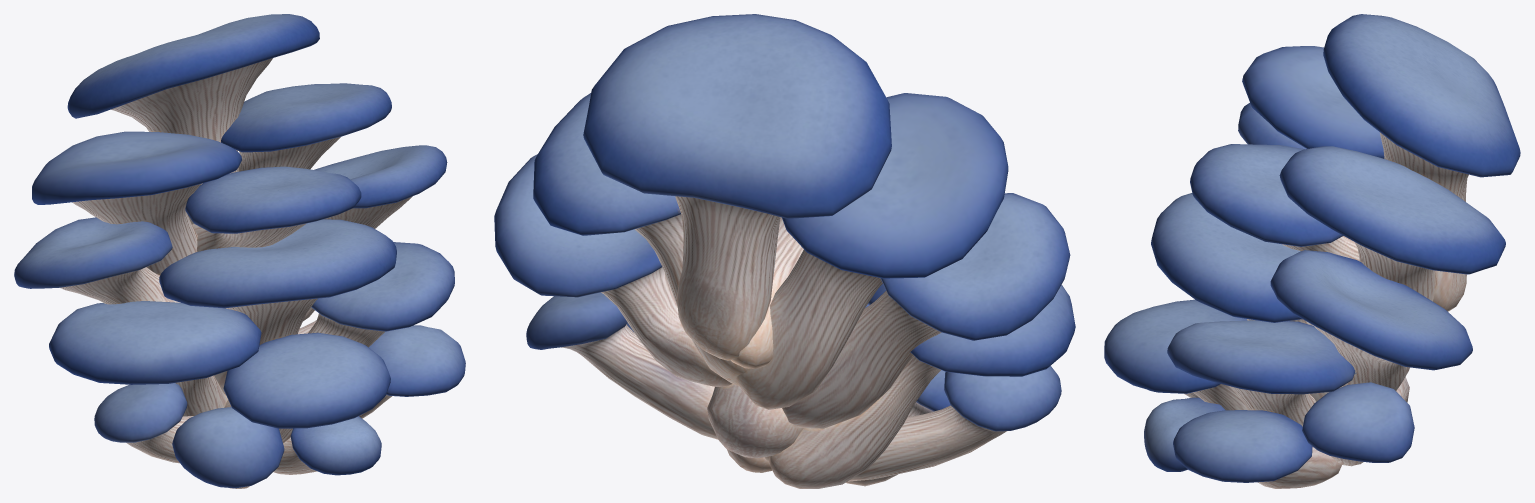
Rendered from mushrooms_blue.obj.
The picture shows the model from 3 angles, left to right: view 1: azimuth 30°, elevation 25°; view 2: azimuth 150°, elevation 25°; view 3: azimuth 270°, elevation 25°; orthographic projection. The views are drawn at different scales.
Parts seen in each view (by area): view 1: obj1; view 2: obj1; view 3: obj1.
Part boxes in pixels (<box>): obj1: <box>14,14,465,488</box>; obj1: <box>494,14,1075,488</box>; obj1: <box>1104,14,1520,488</box>.
Bounding box in the file's own units: 0.3226 × 0.2895 × 0.2489.
Materials: 1 (1 with a texture image).
